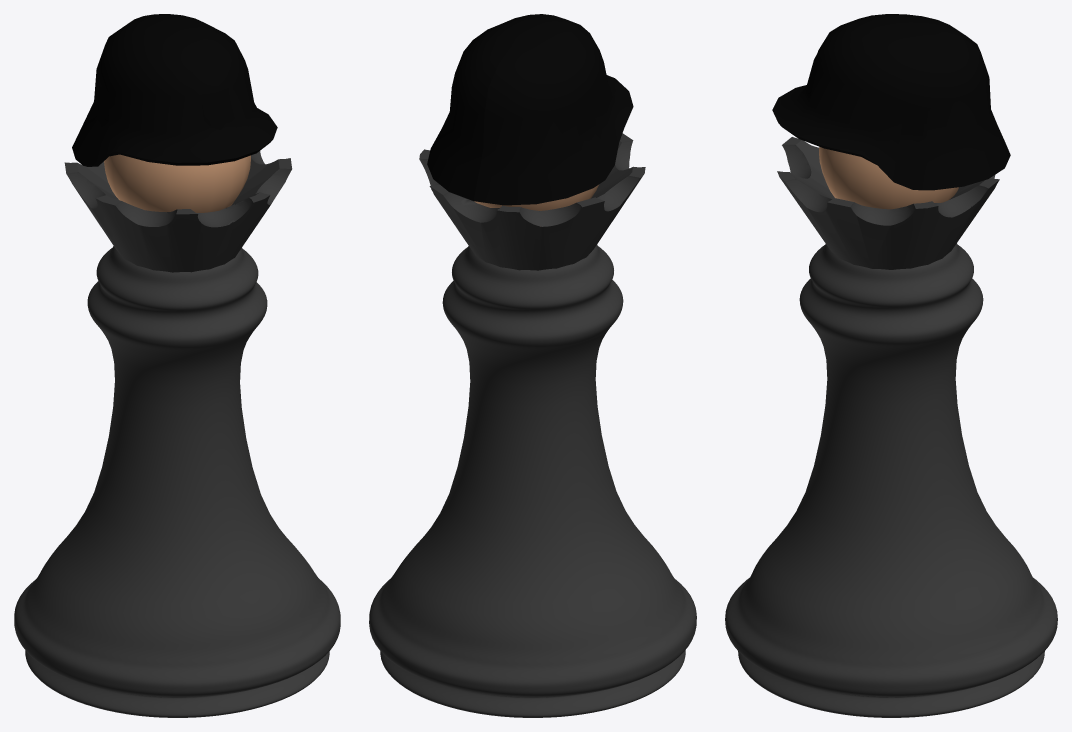
Rendered from Rainha Preta.FBX.
The picture shows the model from 3 angles, left to right: view 1: azimuth 30°, elevation 25°; view 2: azimuth 150°, elevation 25°; view 3: azimuth 270°, elevation 25°; orthographic projection.
Visible parts, largest first — view 1: polySurface018, 4cd75640.o, 4930d698.o; view 2: polySurface018, 4cd75640.o; view 3: polySurface018, 4cd75640.o, 4930d698.o.
Boxes of the visible parts, box(x1,y1,x2,y2) form: polySurface018: box(14, 151, 340, 717); 4cd75640.o: box(72, 14, 277, 166); 4930d698.o: box(97, 86, 231, 129); polySurface018: box(369, 133, 696, 717); 4cd75640.o: box(427, 14, 633, 205); polySurface018: box(725, 137, 1057, 717); 4cd75640.o: box(772, 14, 1010, 190); 4930d698.o: box(804, 60, 928, 146).
Size of the model in its own units: 42.34 by 91.79 by 42.94.
